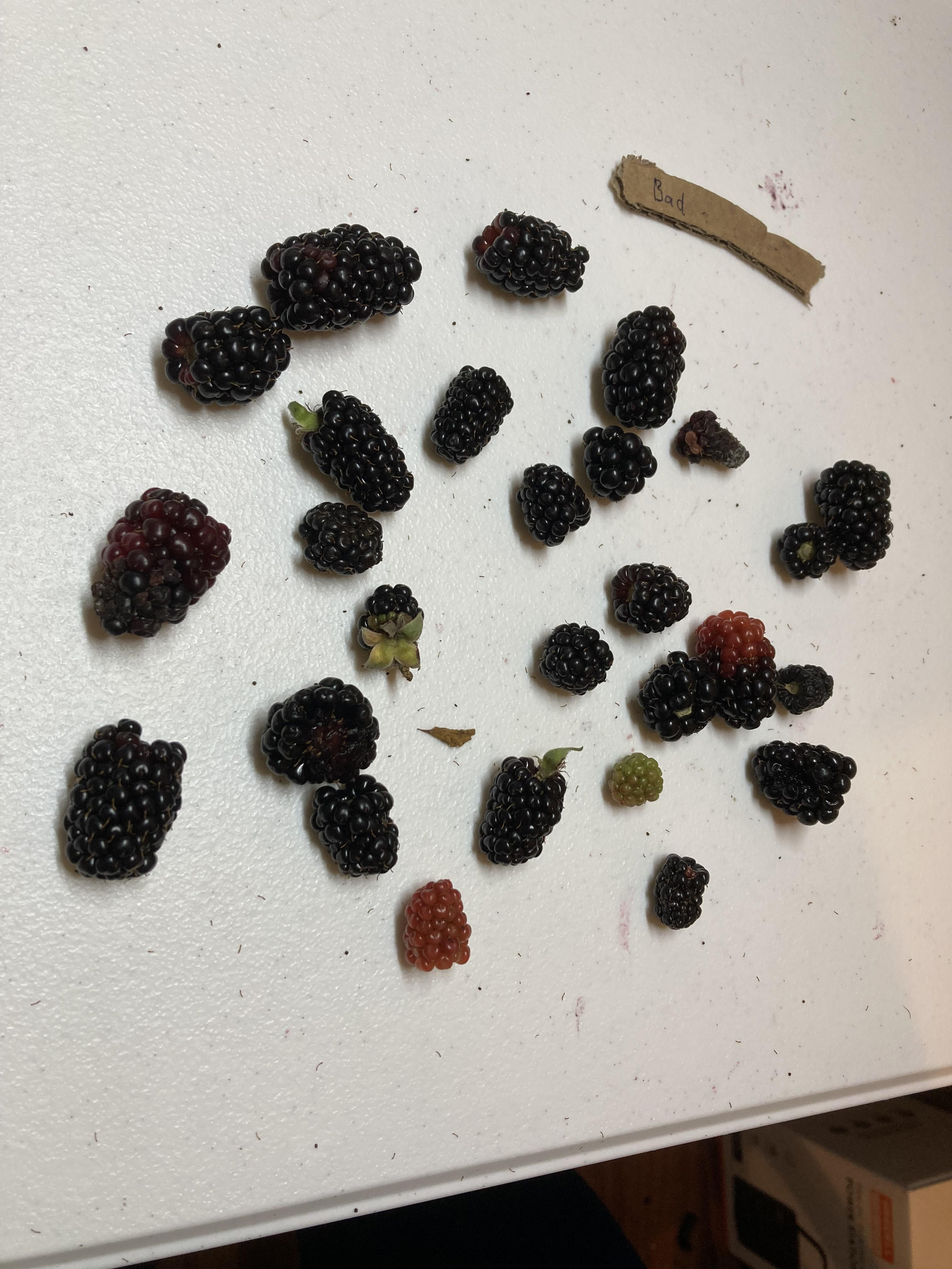berry: (91, 488, 230, 637), (60, 721, 178, 876), (261, 224, 417, 327), (293, 392, 409, 507), (479, 748, 580, 865), (260, 680, 373, 783), (165, 307, 287, 400), (696, 611, 777, 729), (602, 307, 681, 424), (473, 210, 581, 295), (311, 775, 398, 876), (815, 460, 892, 570), (748, 743, 852, 819), (431, 367, 508, 458), (636, 652, 718, 735), (358, 584, 424, 681), (404, 879, 471, 972), (299, 502, 383, 575), (517, 464, 590, 545), (609, 563, 687, 630), (581, 426, 654, 495), (536, 624, 609, 688), (654, 854, 709, 929), (677, 410, 745, 464), (778, 523, 838, 579), (609, 753, 663, 806), (776, 665, 833, 714)
